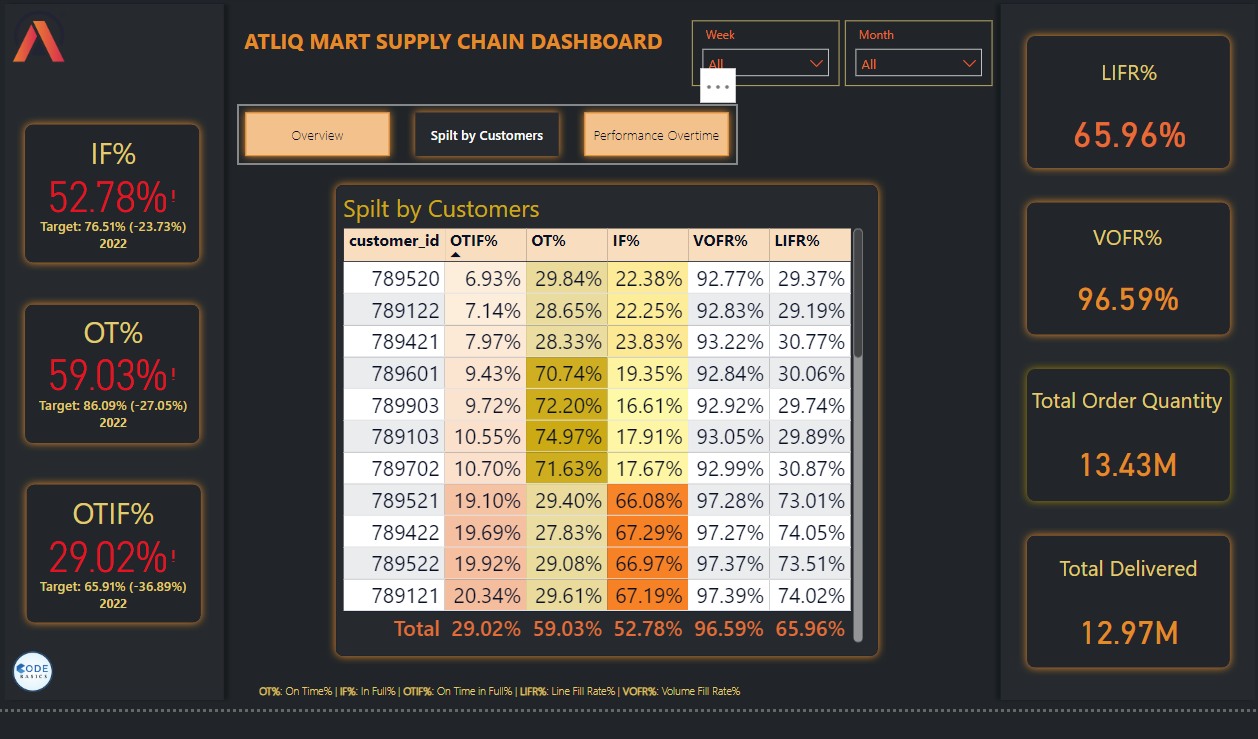

This screenshot's page, from the dashboard's own definition file:
{"tool":"powerbi","page":{"name":"Spilt by Customers","canvas":[1280,720],"ordinal":1},"visuals":[{"type":"shape","box":[1004.6,0,275,720],"z":0},{"type":"shape","box":[0,0,238.8,720],"z":1000},{"type":"shape","box":[1032.4,537.7,220.7,149.5],"z":2000},{"type":"shape","box":[1031.2,369.6,220.7,149.5],"z":3000},{"type":"shape","box":[1031.2,201.6,220.7,149.5],"z":4000},{"type":"shape","box":[1032.4,33.6,220.7,149.5],"z":5000},{"type":"shape","box":[22.9,486,191.8,155.6],"z":6000},{"type":"shape","box":[21.8,304.3,191.8,156],"z":7000},{"type":"shape","box":[21.7,123,191.8,155.6],"z":8000},{"type":"shape","box":[333.6,183.1,563.2,492.1],"z":9000},{"type":"textbox","box":[244.8,25.3,505.3,56.7],"z":10000},{"type":"card","title":"LIFR%","fields":{"Values":["fact_order_lines.LIFR%"]},"box":[1043.2,61.5,197.8,121.8],"z":11000},{"type":"card","title":"VOFR%","fields":{"Values":["fact_order_lines.VOFR%"]},"box":[1042,229.1,197.8,121.8],"z":12000},{"type":"card","title":"Total Order Quantity","fields":{"Values":["fact_order_lines.Total Qty Ordered"]},"box":[1039.6,393.2,202.6,125.4],"z":13000},{"type":"card","title":"Total Delivered","fields":{"Values":["fact_order_lines.Total Qty Shipped"]},"box":[1040.8,563.2,202.6,125.4],"z":14000},{"type":"kpi","title":"IF%","fields":{"Indicator":["fact_orders_aggregate.IF%"],"Goal":["Avg(dim_targets_orders.IF Target)"],"TrendLine":["dim_date.date.Variation.Date Hierarchy.Year"]},"box":[27.7,138.7,182.1,125.4],"z":15000},{"type":"kpi","title":"OT%","fields":{"Goal":["Avg(dim_targets_orders.OT Target)"],"TrendLine":["dim_date.date.Variation.Date Hierarchy.Year"],"Indicator":["fact_orders_aggregate.OT%"]},"box":[26.5,319.6,182.1,125.4],"z":16000},{"type":"kpi","title":"OTIF%","fields":{"Goal":["Avg(dim_targets_orders.OTIF Target)"],"TrendLine":["dim_date.date.Variation.Date Hierarchy.Year"],"Indicator":["fact_orders_aggregate.OTIF%"]},"box":[27.7,501.7,182.1,125.4],"z":17000},{"type":"textbox","box":[260.5,685,645.2,35],"z":18000},{"type":"slicer","fields":{"Values":["dim_date.date.Variation.Date Hierarchy.Month"]},"box":[856.3,25.4,148.3,66.3],"z":19000},{"type":"slicer","fields":{"Values":["dim_date.week_no"]},"box":[701.9,25.3,148.3,66.3],"z":20000},{"type":"image","box":[10.9,9.6,66.3,63.9],"z":21000},{"type":"image","box":[9.6,654.9,55.5,54.3],"z":22000},{"type":"tableEx","title":"Spilt by Customers","fields":{"Values":["dim_customers.customer_id","fact_orders_aggregate.OTIF%","fact_orders_aggregate.OT%","fact_orders_aggregate.IF%","fact_order_lines.VOFR%","fact_order_lines.LIFR%"]},"box":[345.7,198.8,534.3,459.5],"z":23000},{"type":"pageNavigator","box":[243.9,110.2,503.8,60.7],"z":24000}]}

Visuals, with their boxes on the page's 1280x720 design canvas (x1, y1, x2, y2). These are canvas units, not pixel positions in the 1258x739 screenshot, which may show the page scaled, cropped or inside an application window:
shape: region(1005, 0, 1280, 720)
shape: region(0, 0, 239, 720)
shape: region(1032, 538, 1253, 687)
shape: region(1031, 370, 1252, 519)
shape: region(1031, 202, 1252, 351)
shape: region(1032, 34, 1253, 183)
shape: region(23, 486, 215, 642)
shape: region(22, 304, 214, 460)
shape: region(22, 123, 214, 279)
shape: region(334, 183, 897, 675)
textbox: region(245, 25, 750, 82)
"LIFR%" card: region(1043, 62, 1241, 183)
"VOFR%" card: region(1042, 229, 1240, 351)
"Total Order Quantity" card: region(1040, 393, 1242, 519)
"Total Delivered" card: region(1041, 563, 1243, 689)
"IF%" kpi: region(28, 139, 210, 264)
"OT%" kpi: region(26, 320, 209, 445)
"OTIF%" kpi: region(28, 502, 210, 627)
textbox: region(260, 685, 906, 720)
slicer - dim_date.date.Variation.Date Hierarchy.Month: region(856, 25, 1005, 92)
slicer - dim_date.week_no: region(702, 25, 850, 92)
image: region(11, 10, 77, 74)
image: region(10, 655, 65, 709)
"Spilt by Customers" tableEx: region(346, 199, 880, 658)
pageNavigator: region(244, 110, 748, 171)
